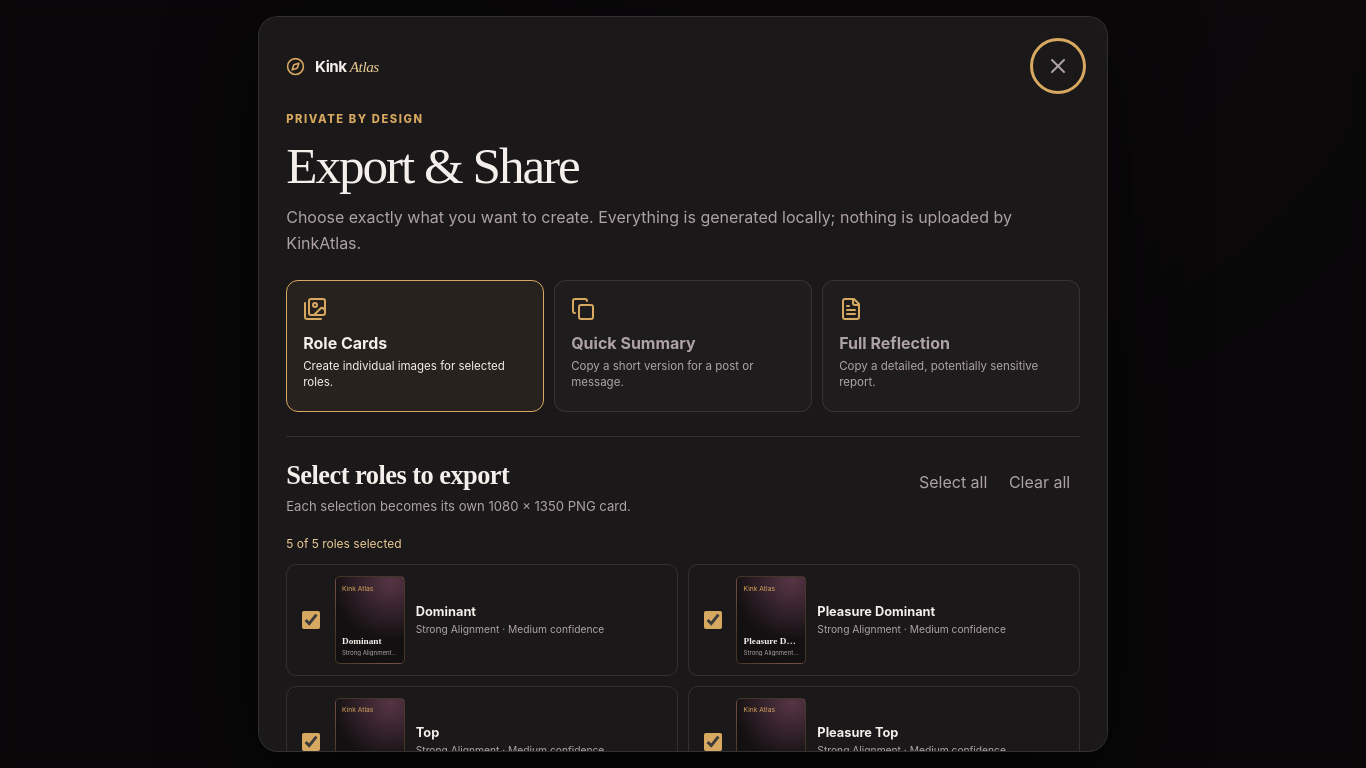
Export & Share dialog › announces single-card export and native-share fallback outcomes
Click the button "Clear all" at (1040, 482), box [999,460,1080,504]
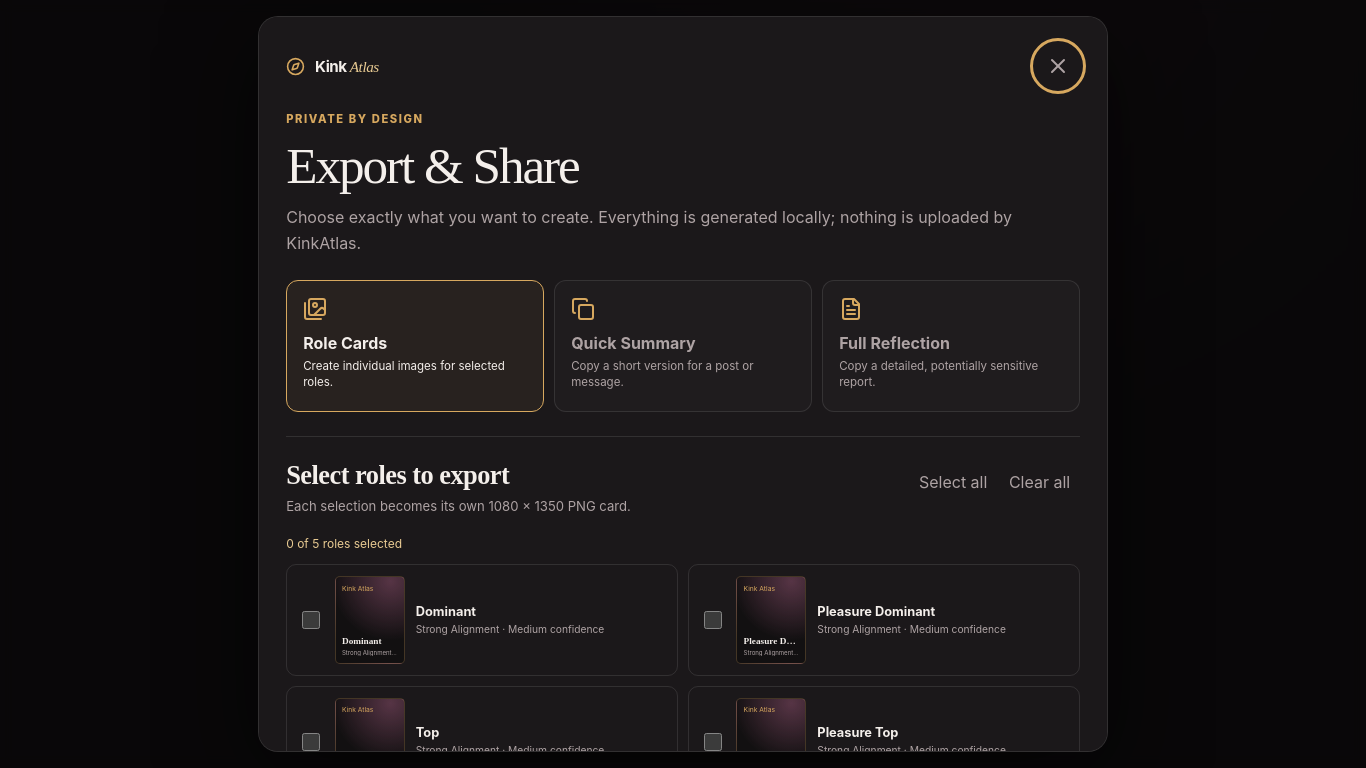
Click the 1st checkbox at (311, 620), box [302,611,320,629]
(page scrolled)
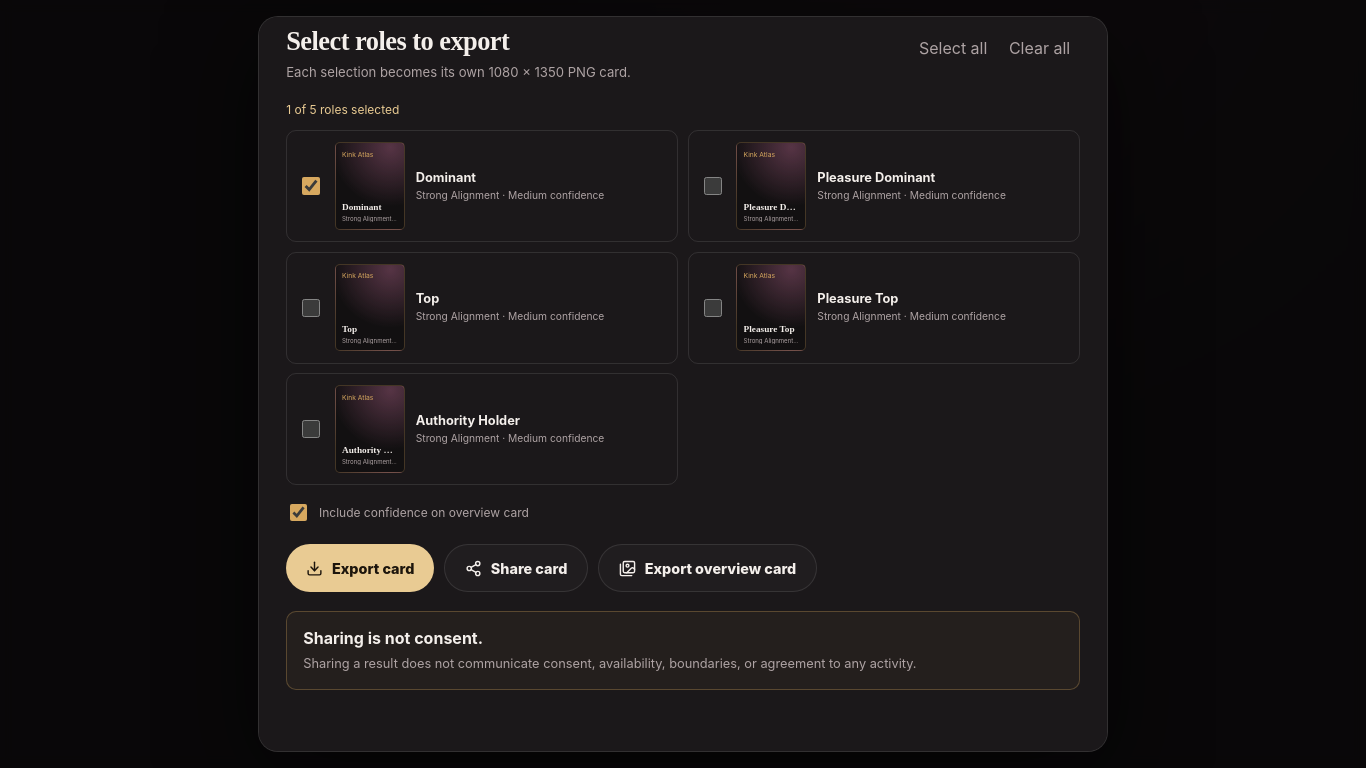
Click the button "Export card" at (360, 568), box [286,544,434,592]
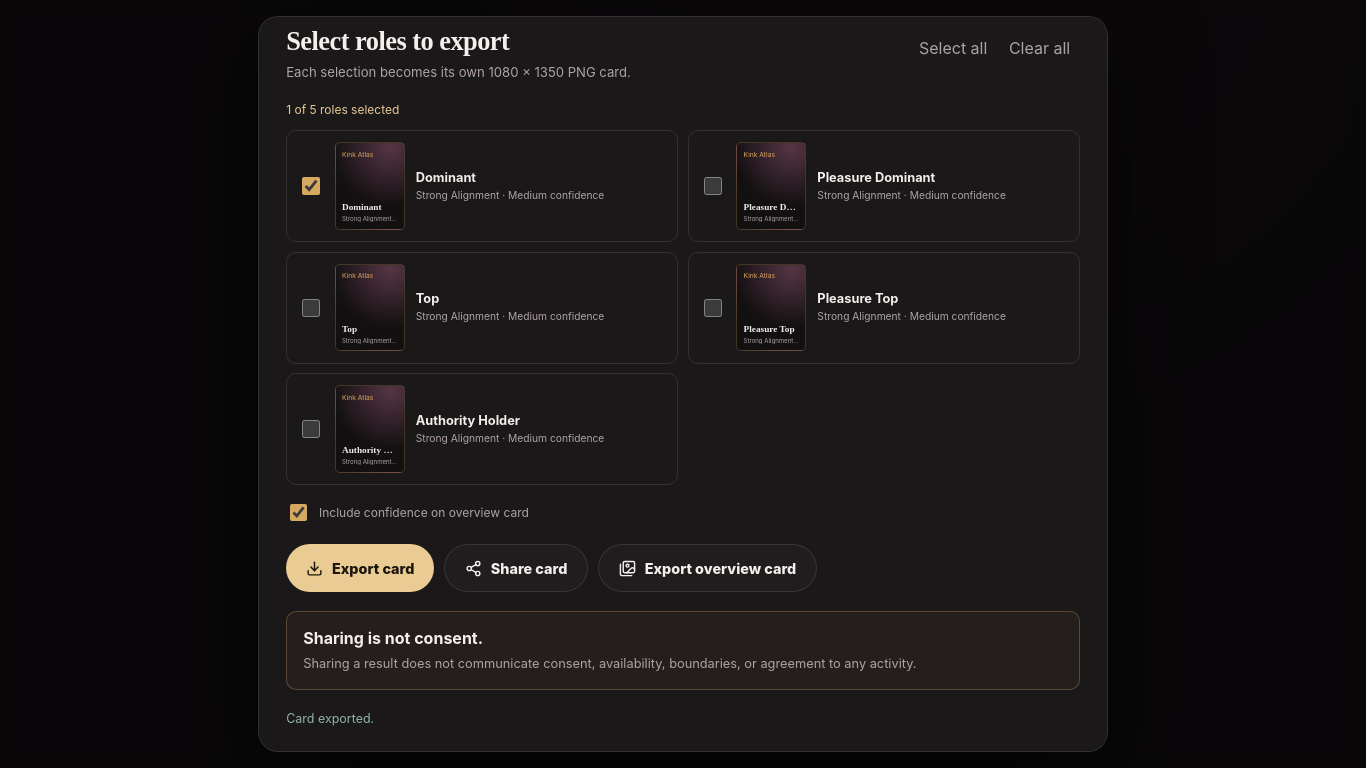
Expected: the message reads "Card exported.", [286,711,374,726]
Click the button "Share card" at (516, 568), box [444,544,588,592]
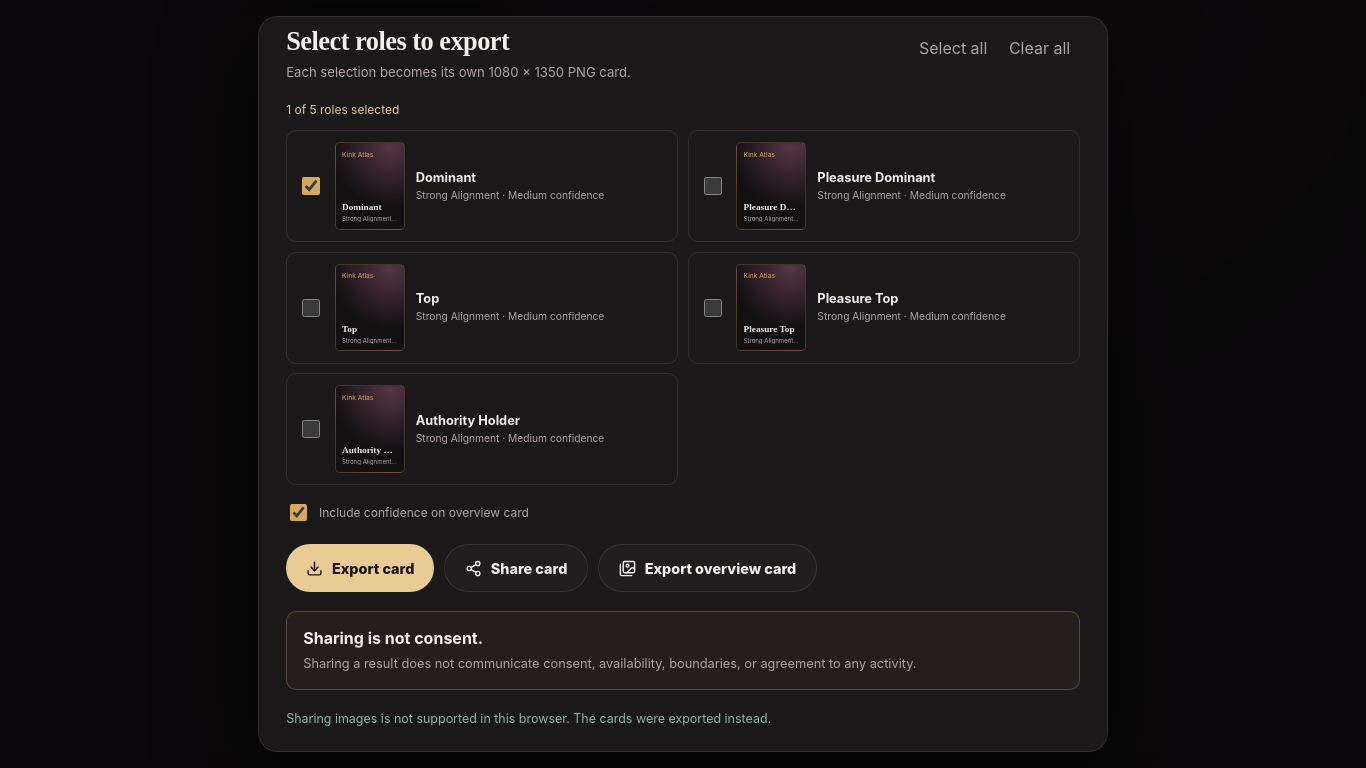
Expected: the message shows "cards were exported instead", [286,711,771,726]
